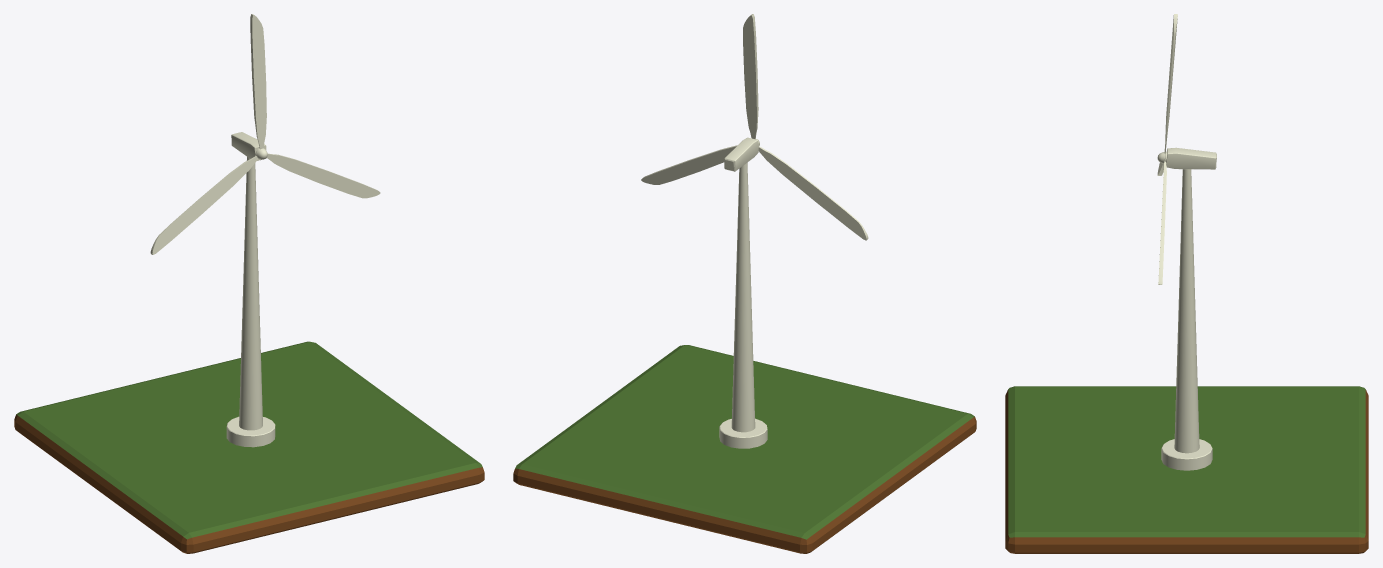
Rendered from Wind_Turbine_Sm.fbx.
The picture shows the model from 3 angles, left to right: view 1: azimuth 30°, elevation 25°; view 2: azimuth 150°, elevation 25°; view 3: azimuth 270°, elevation 25°; orthographic projection. The views are drawn at different scales.
Parts seen in each view (by area): view 1: WindTurbine_Sm, Tower, Blades.001; view 2: WindTurbine_Sm, Tower, Blades.001, Nacelle.001; view 3: WindTurbine_Sm, Tower, Blades.001, Nacelle.001.
Boxes of the visible parts, <box> form: WindTurbine_Sm: <box>14,341,484,553</box>; Tower: <box>226,157,275,447</box>; Blades.001: <box>150,14,380,254</box>; WindTurbine_Sm: <box>513,345,976,553</box>; Tower: <box>719,162,767,448</box>; Blades.001: <box>641,14,868,240</box>; Nacelle.001: <box>724,137,758,171</box>; WindTurbine_Sm: <box>1005,386,1368,553</box>; Tower: <box>1161,169,1212,470</box>; Blades.001: <box>1157,14,1177,284</box>; Nacelle.001: <box>1166,147,1216,169</box>.
Size of the model in its own units: 156 by 220 by 156.
